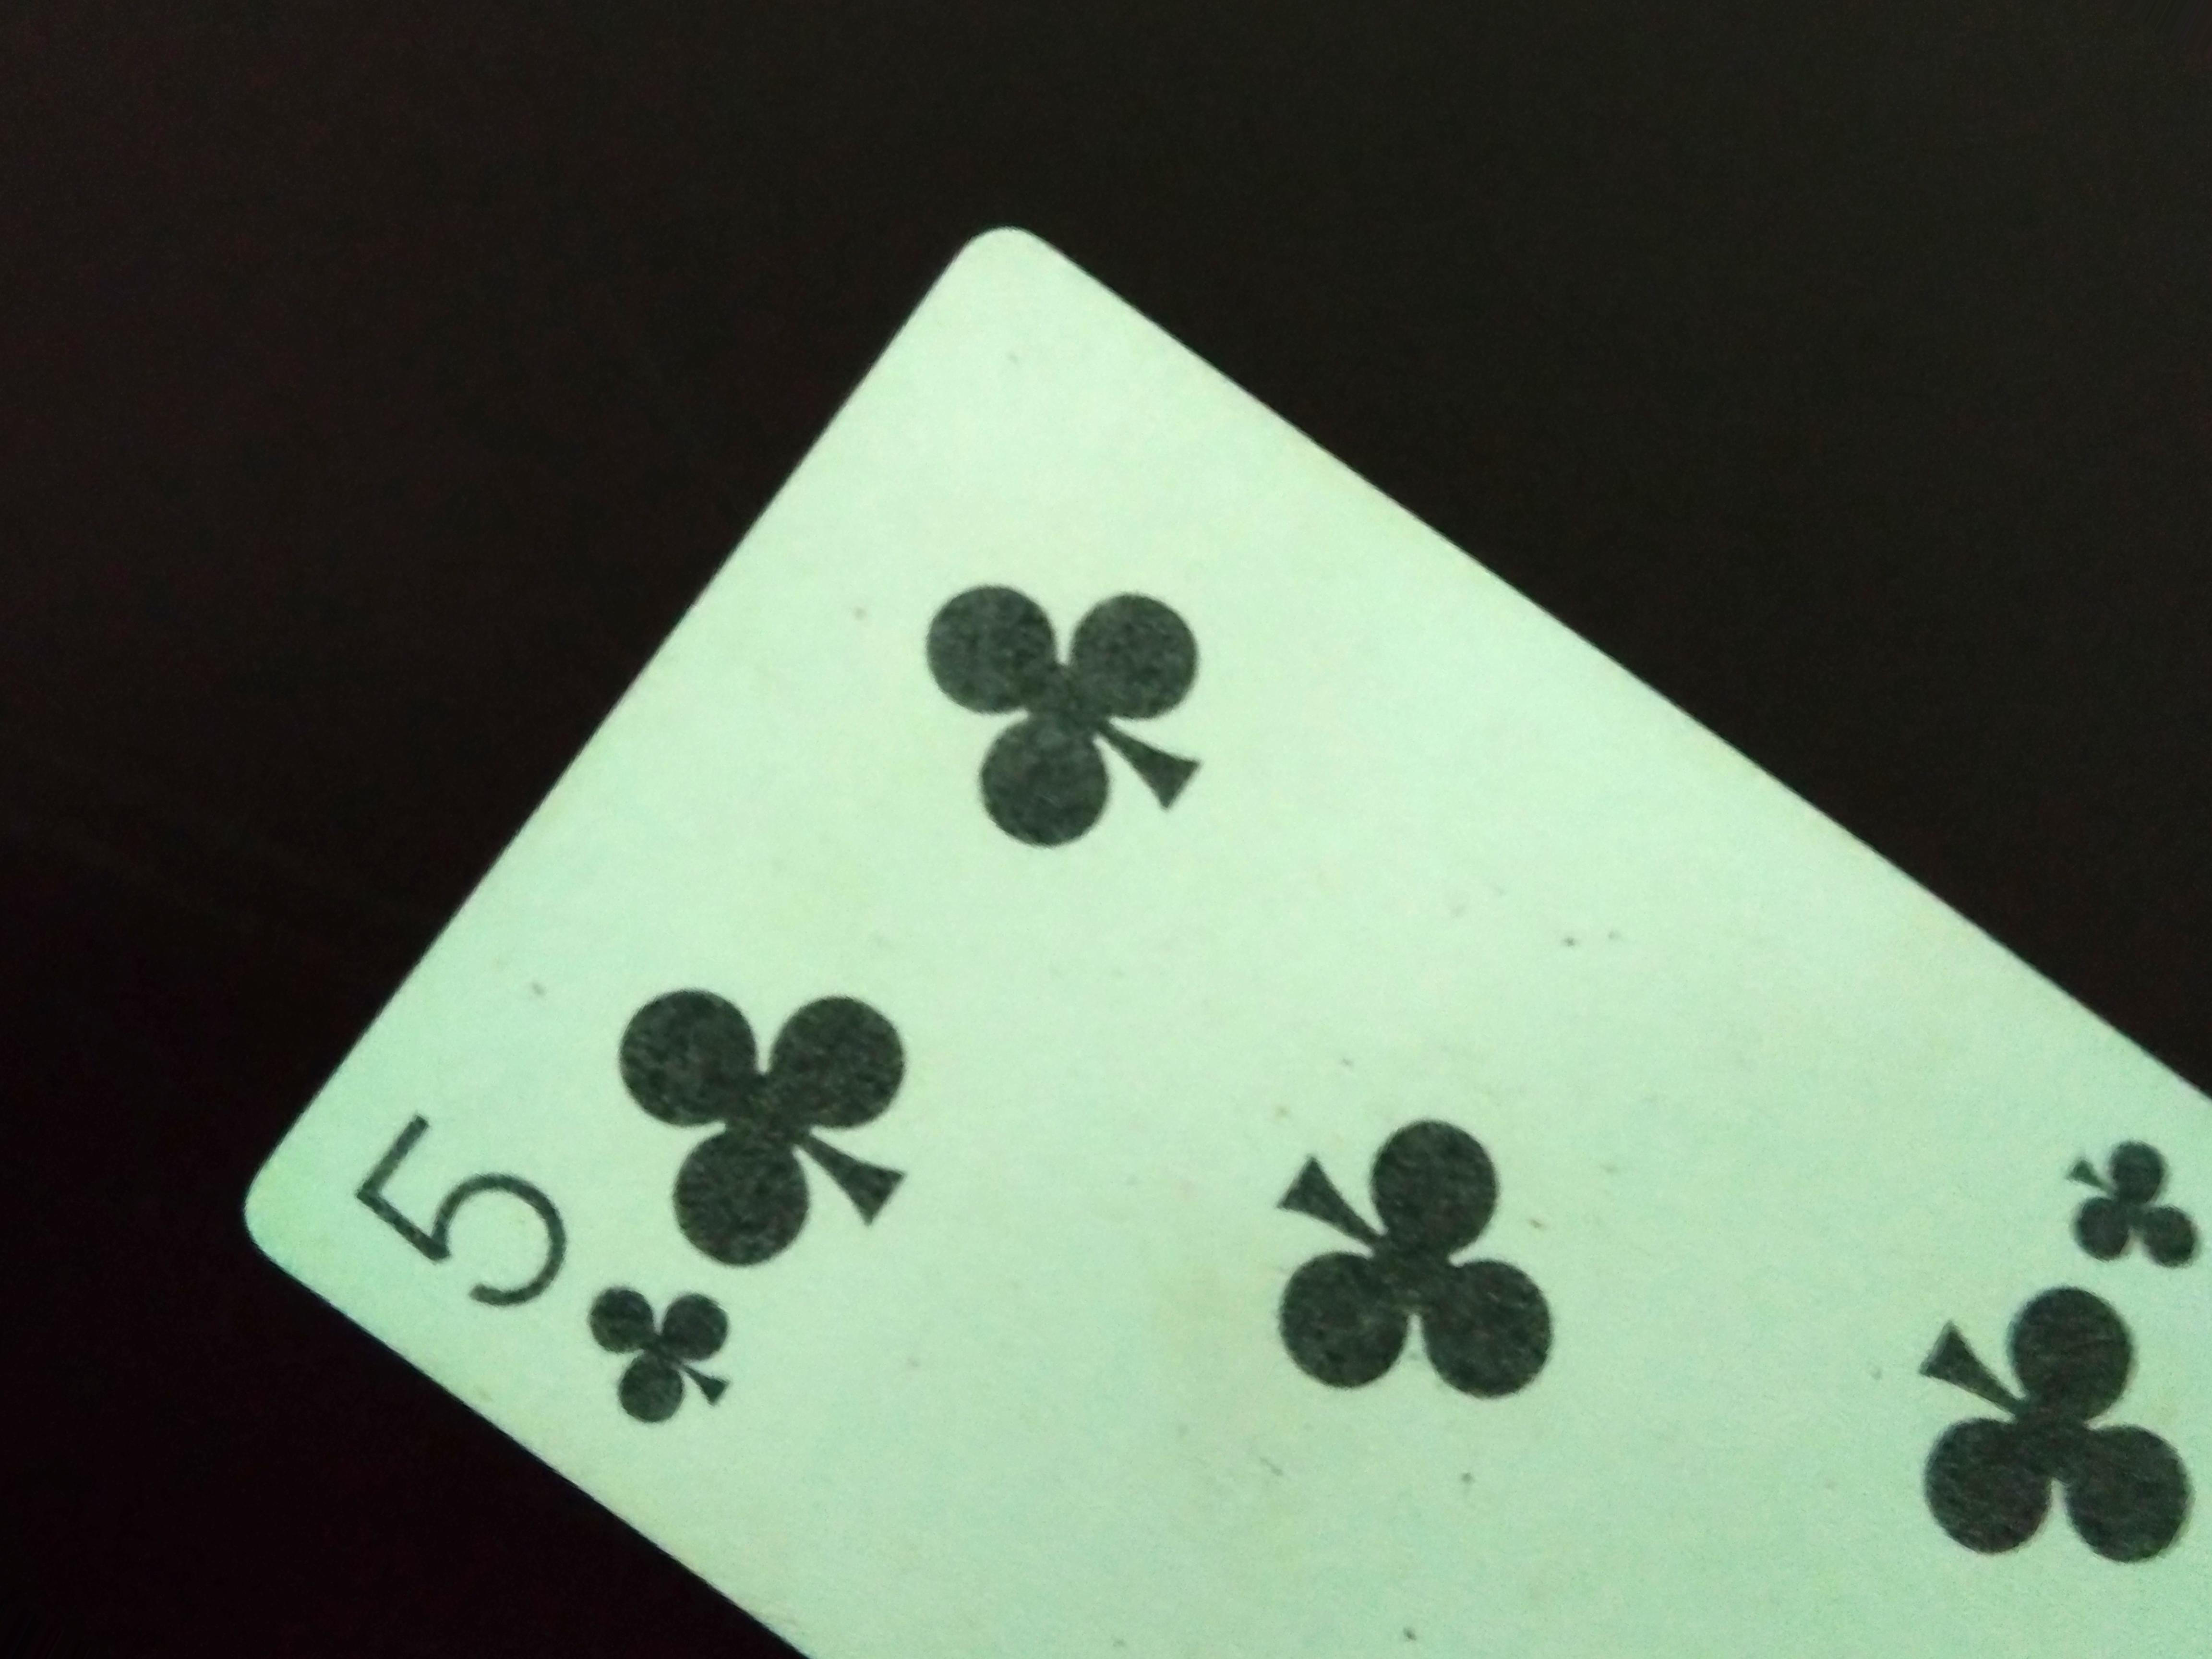5C: (368, 1093, 799, 1462)
